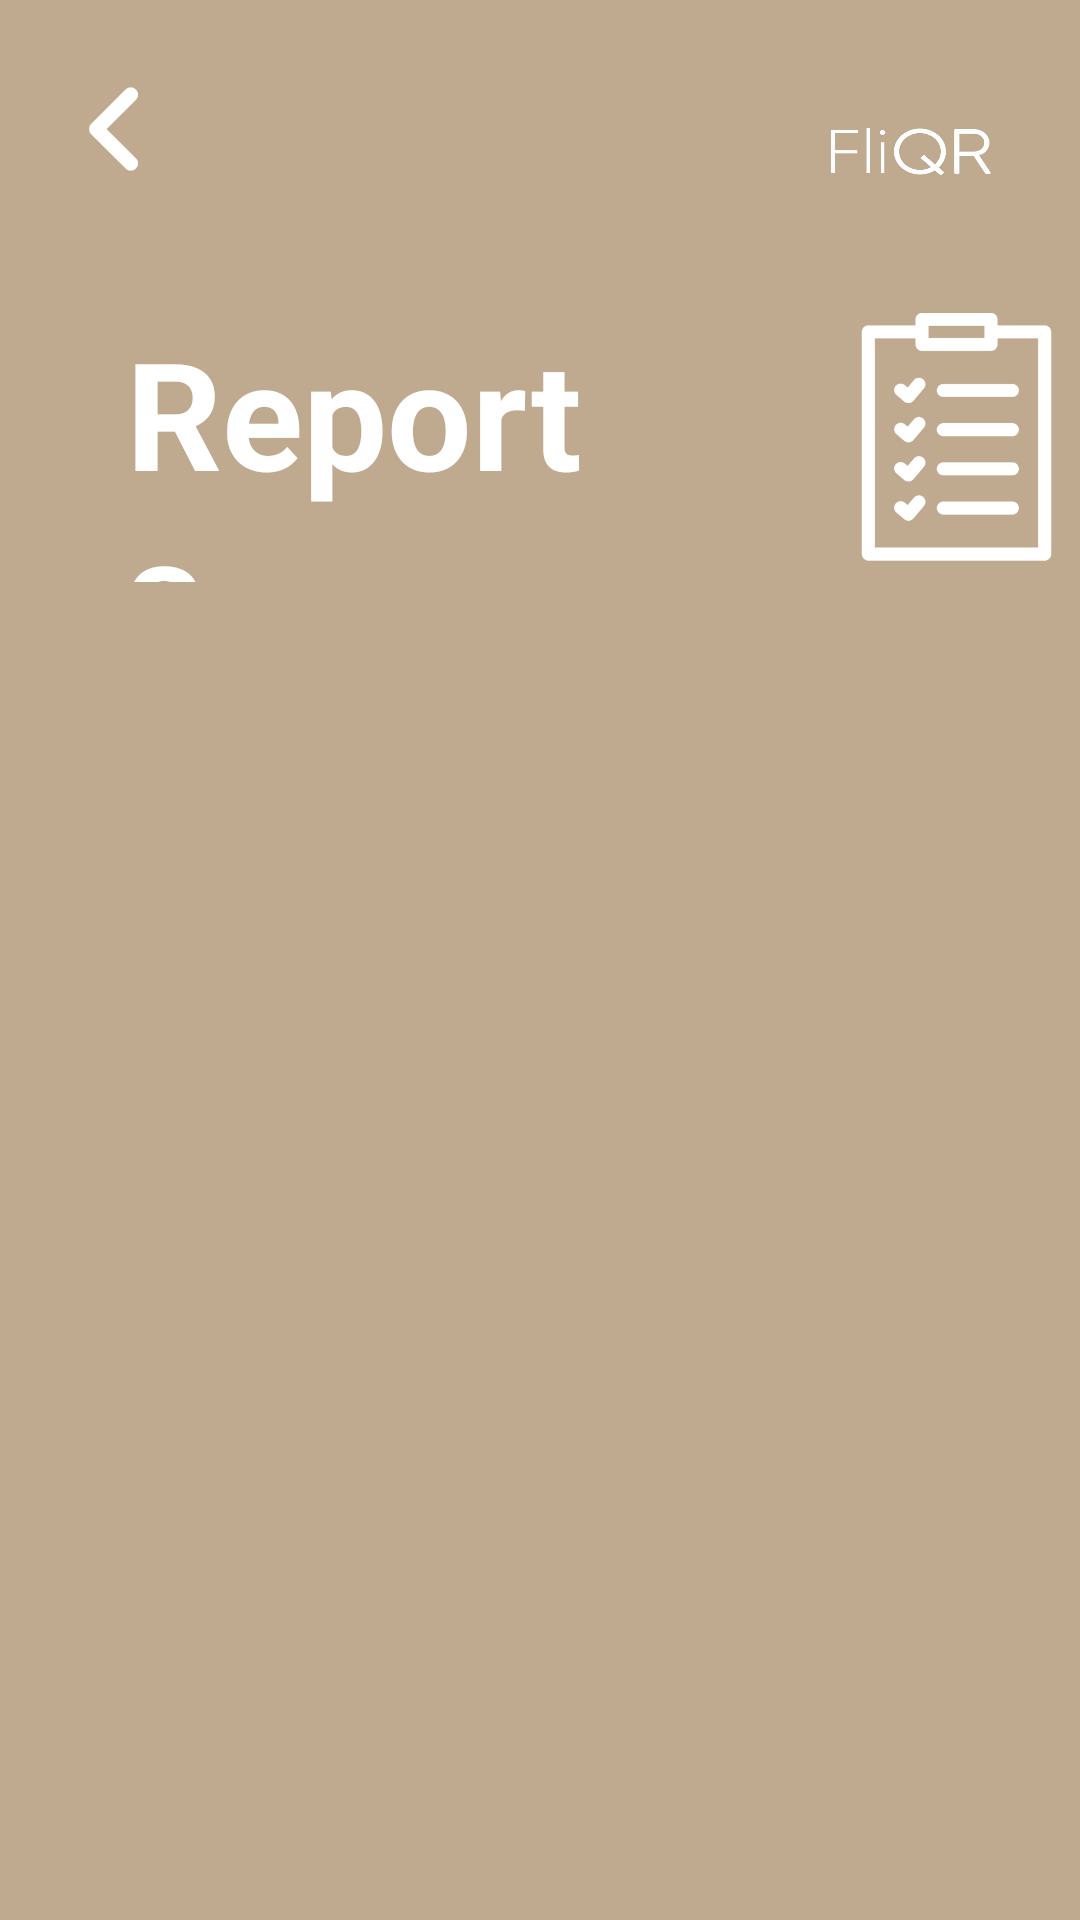

Named icons in this screenshot (1080*1920) and their centers, (x,y):
back: (113,129)
reports hd: (956,437)
